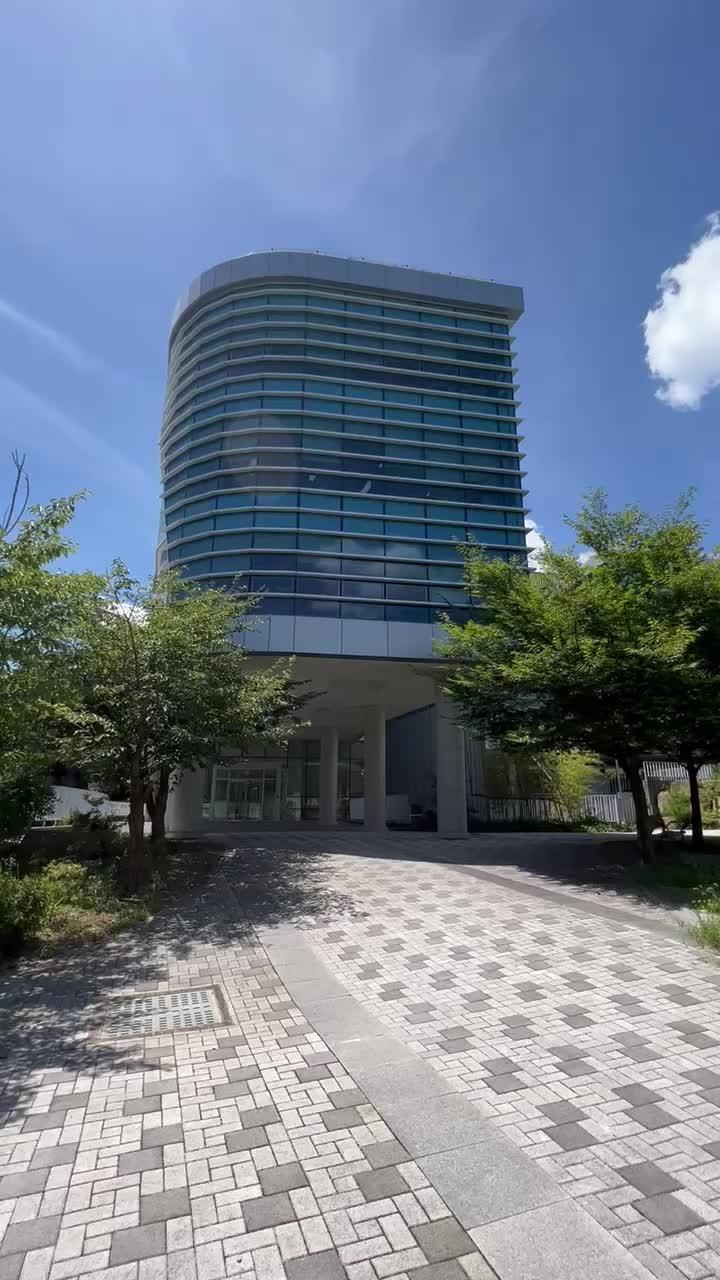building: (100, 240, 554, 584)
